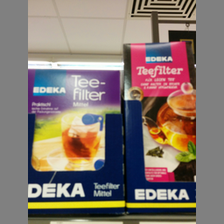tea: (123, 41, 196, 181), (28, 68, 120, 172)
